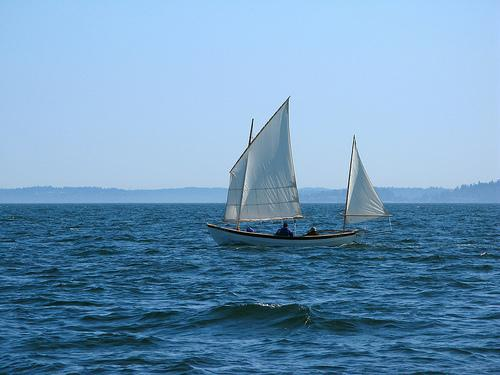Ship: (208, 95, 389, 249)
